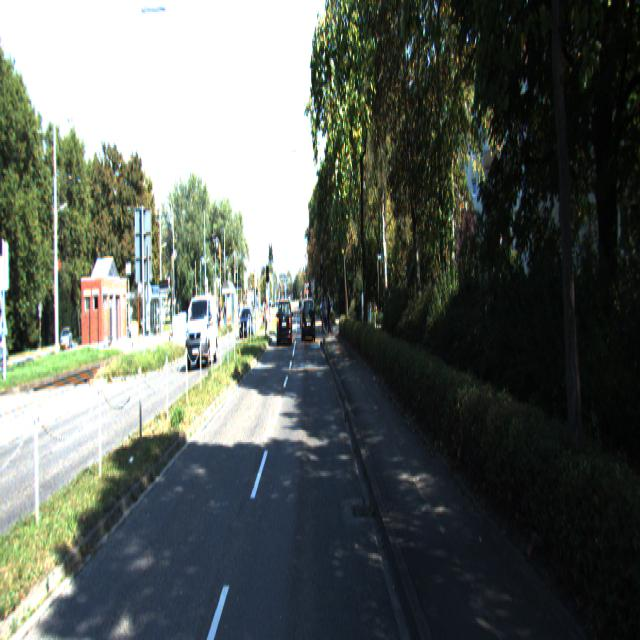Car: (187, 295, 219, 369), (277, 301, 293, 348), (302, 297, 316, 343), (239, 307, 253, 340)
